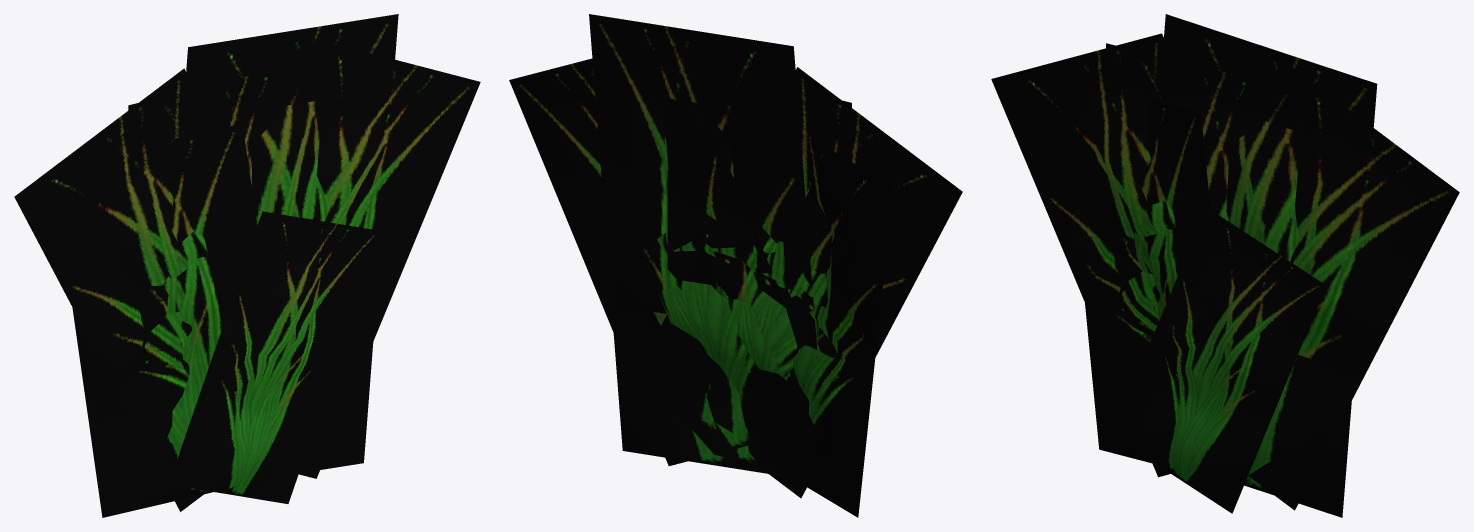
Rendered from GrassClump04.fbx.
The picture shows the model from 3 angles, left to right: view 1: azimuth 30°, elevation 25°; view 2: azimuth 150°, elevation 25°; view 3: azimuth 330°, elevation 25°; orthographic projection. The views are drawn at different scales.
Visible parts, largest first — view 1: GrassClump04; view 2: GrassClump04; view 3: GrassClump04.
Boxes of the visible parts, x1,y1,x2,y2 form: GrassClump04: [14, 14, 480, 517]; GrassClump04: [509, 14, 962, 517]; GrassClump04: [991, 14, 1459, 517].
Size of the model in its own units: 4.87 by 4.63 by 0.6955.
